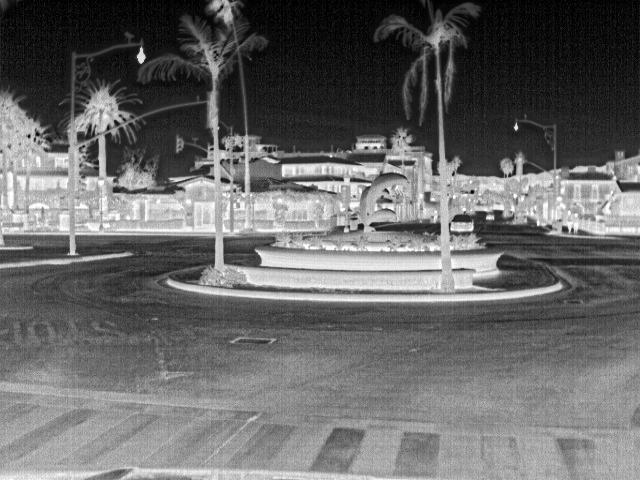car: (448, 214, 475, 230), (483, 210, 496, 221)
person: (563, 209, 575, 234), (572, 211, 580, 235), (430, 208, 439, 223)
